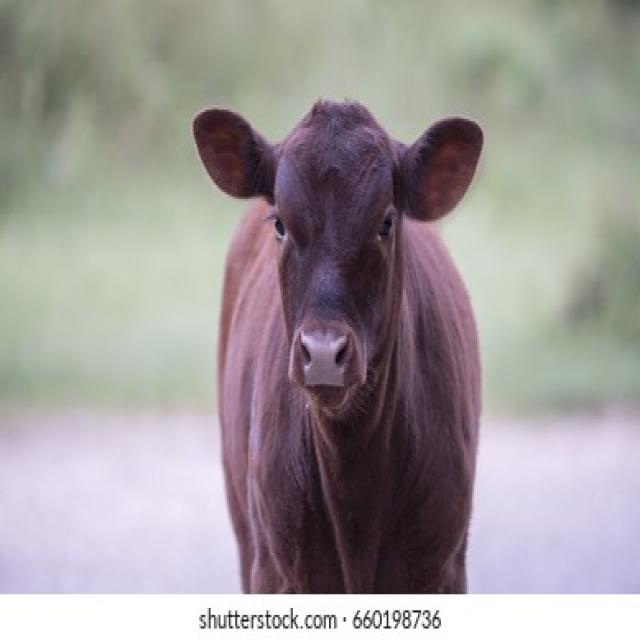cowFace: (169, 69, 515, 444)
